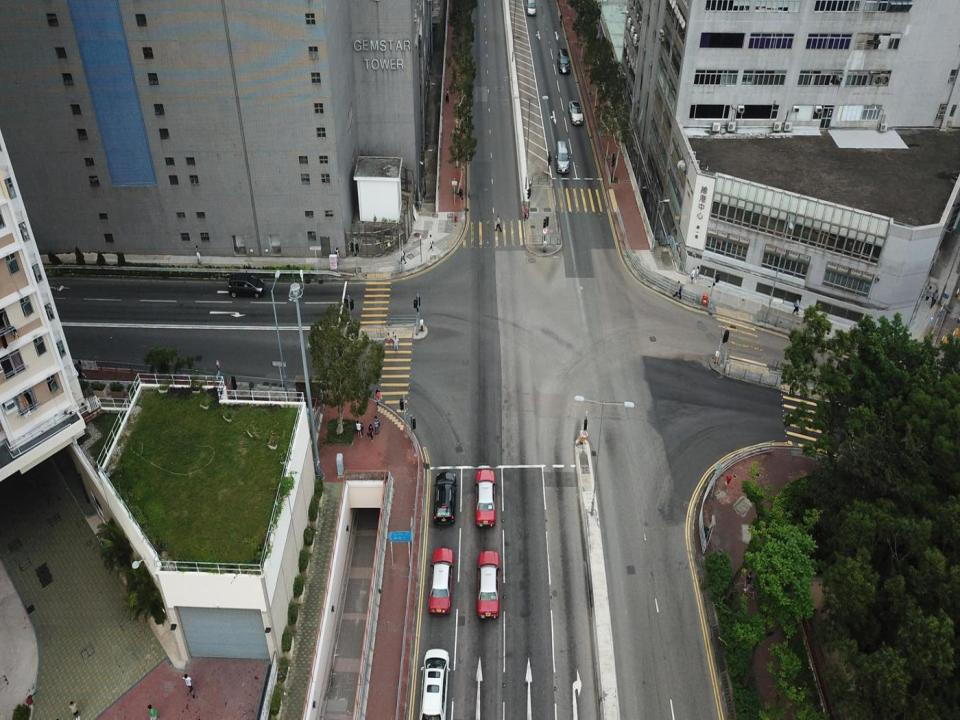car: (420, 648, 449, 719), (476, 551, 500, 619), (428, 548, 452, 613), (433, 472, 458, 526), (476, 468, 497, 529), (568, 99, 584, 124)
van: (229, 274, 265, 299), (554, 139, 571, 173), (557, 49, 569, 74), (525, 0, 536, 16)
